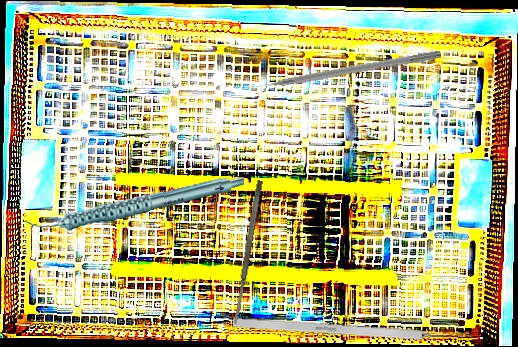Handpiece: (25, 172, 245, 235)
Hook Surgical: (232, 316, 467, 345)
Pusher: (242, 47, 442, 94)
Spatula Surgical: (230, 179, 265, 325)
